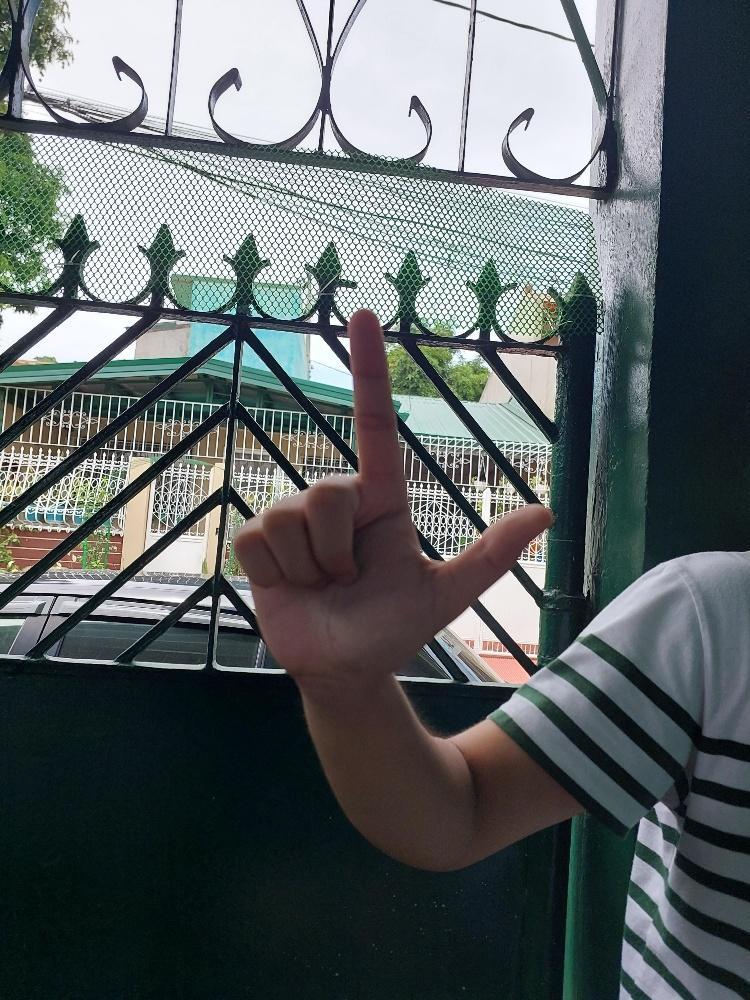l: (230, 302, 557, 685)
